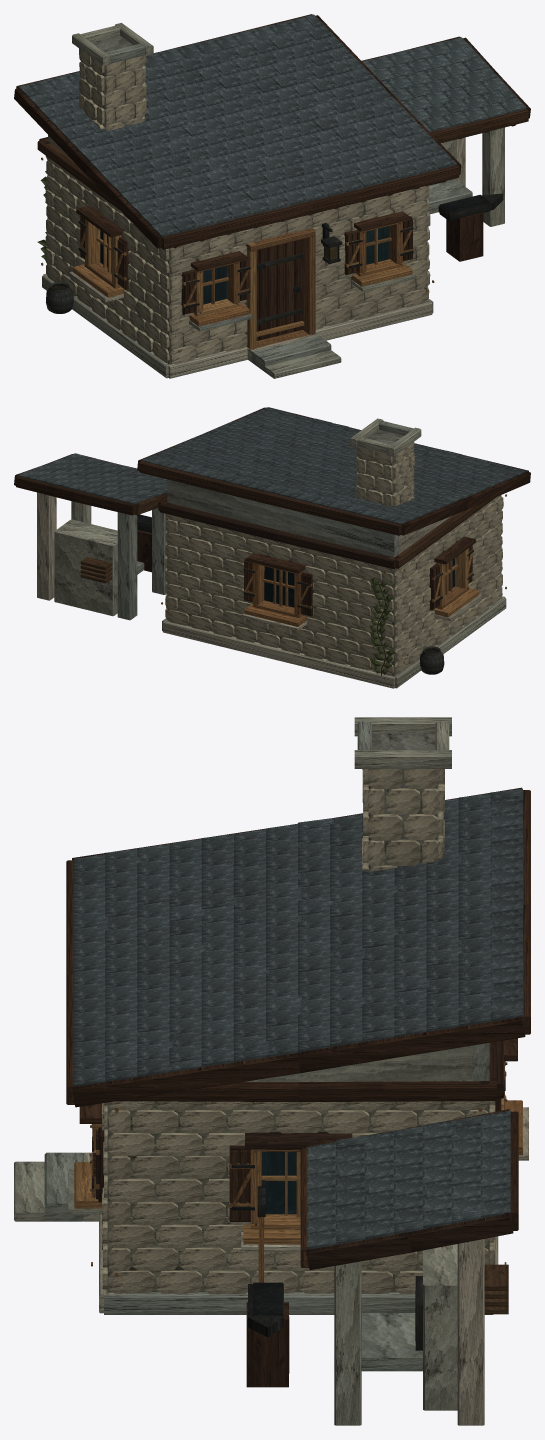
Rendered from 03_smith.glb.
The picture shows the model from 3 angles, top to bottom: view 1: azimuth 30°, elevation 25°; view 2: azimuth 150°, elevation 25°; view 3: azimuth 270°, elevation 25°; orthographic projection. The views are drawn at different scales.
Parts seen in each view (by area): view 1: 03_smith; view 2: 03_smith; view 3: 03_smith.
Part boxes in pixels (x1,y1,x2,y2): 03_smith: (14, 14, 530, 378); 03_smith: (14, 407, 530, 688); 03_smith: (14, 717, 530, 1425).
Size of the model in its own units: 6.66 by 3.64 by 4.19.
Materials: 7 (7 with a texture image).
